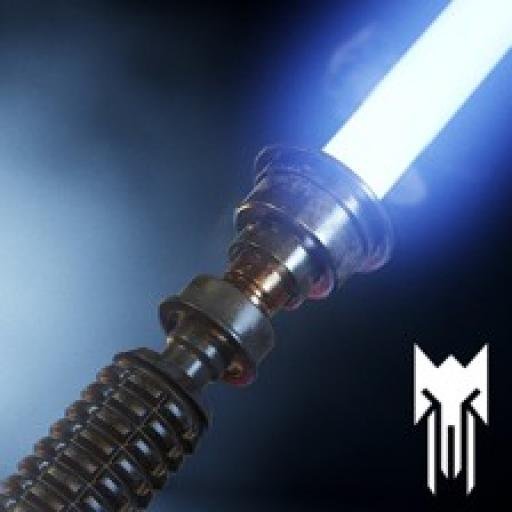lightsaber: (0, 0, 510, 512)
